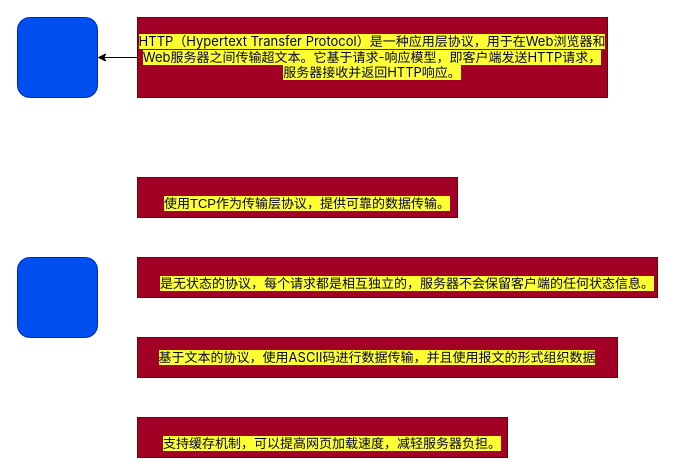
Some shapes in this 675 by 475 pixel diagram are drawn without their labels. The box of each missing label's shape, as (x1, y1, x2, y2) in pixels:
原理: (16, 16, 98, 98)
特点: (16, 256, 98, 338)
